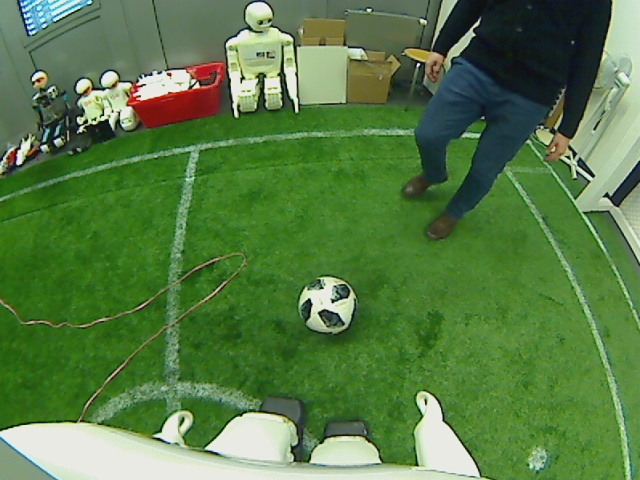ball: (295, 275, 358, 335)
